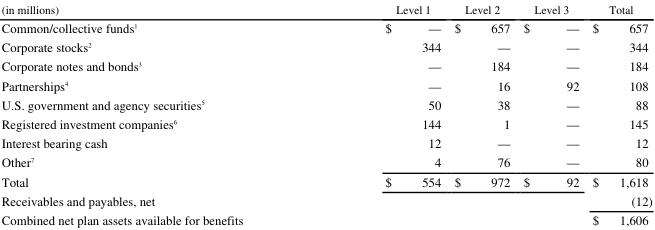table: (0, 0, 651, 227)
table column: (0, 0, 313, 227), (313, 0, 447, 227), (447, 0, 516, 227), (516, 0, 585, 227), (585, 0, 651, 227)
table column header: (0, 0, 651, 17)
table row: (0, 55, 651, 75), (0, 170, 651, 190), (0, 17, 651, 36), (0, 36, 651, 55), (0, 75, 651, 94), (0, 94, 651, 113), (0, 113, 651, 132), (0, 132, 651, 151), (0, 151, 651, 170), (0, 190, 651, 209), (0, 209, 651, 227), (0, 0, 651, 17)
